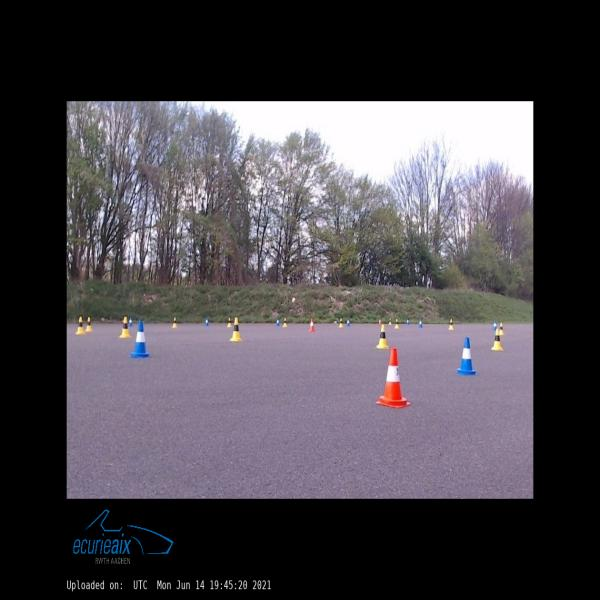blue_cone: (129, 321, 150, 358), (456, 338, 477, 375), (418, 318, 423, 328), (128, 317, 133, 326), (204, 317, 209, 325), (346, 318, 351, 326), (493, 320, 497, 330), (276, 317, 280, 325), (406, 318, 410, 325)
orange_cone: (376, 347, 411, 408), (309, 318, 315, 331), (378, 318, 382, 325)
yellow_cone: (229, 318, 242, 342), (377, 324, 389, 348), (119, 317, 131, 338), (491, 329, 503, 350), (75, 317, 85, 334), (86, 317, 92, 331), (499, 322, 504, 335), (449, 318, 454, 330), (173, 316, 178, 327), (282, 318, 288, 327), (338, 318, 344, 327), (227, 318, 232, 327), (395, 320, 399, 328), (388, 318, 392, 325)
